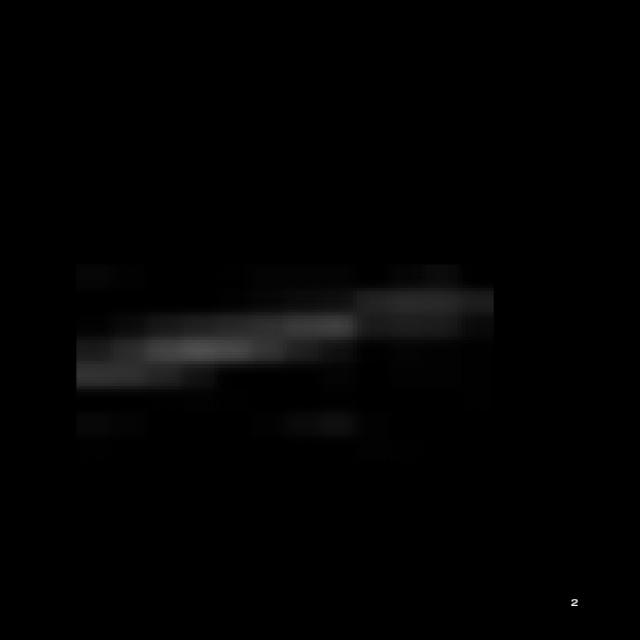1 -one-: (38, 304, 370, 392)
